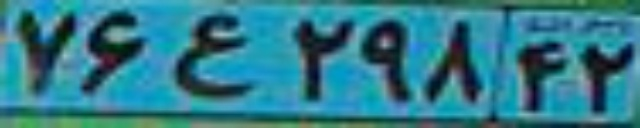2: (289, 19, 354, 101), (578, 39, 636, 113)
4: (515, 39, 569, 113)
6: (81, 11, 148, 94)
7: (13, 9, 78, 93)
8: (425, 19, 484, 104)
9: (361, 19, 411, 103)
ain: (172, 12, 257, 97)
